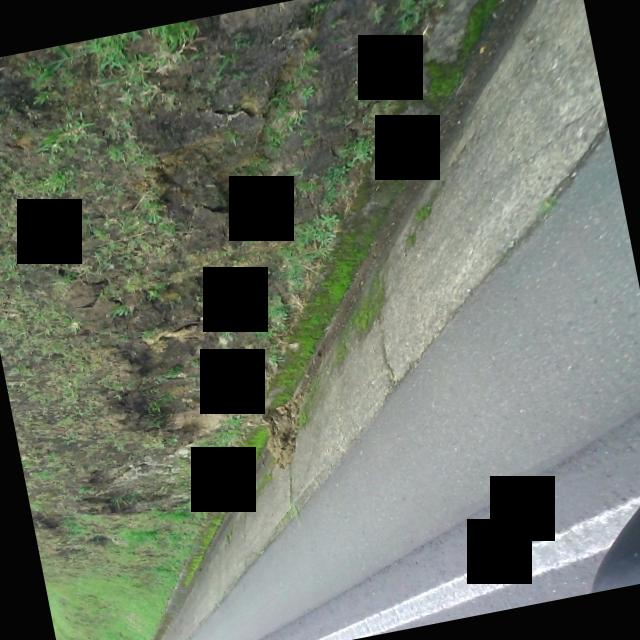DITCH: (0, 0, 640, 640), (0, 0, 640, 640), (18, 0, 640, 640)
